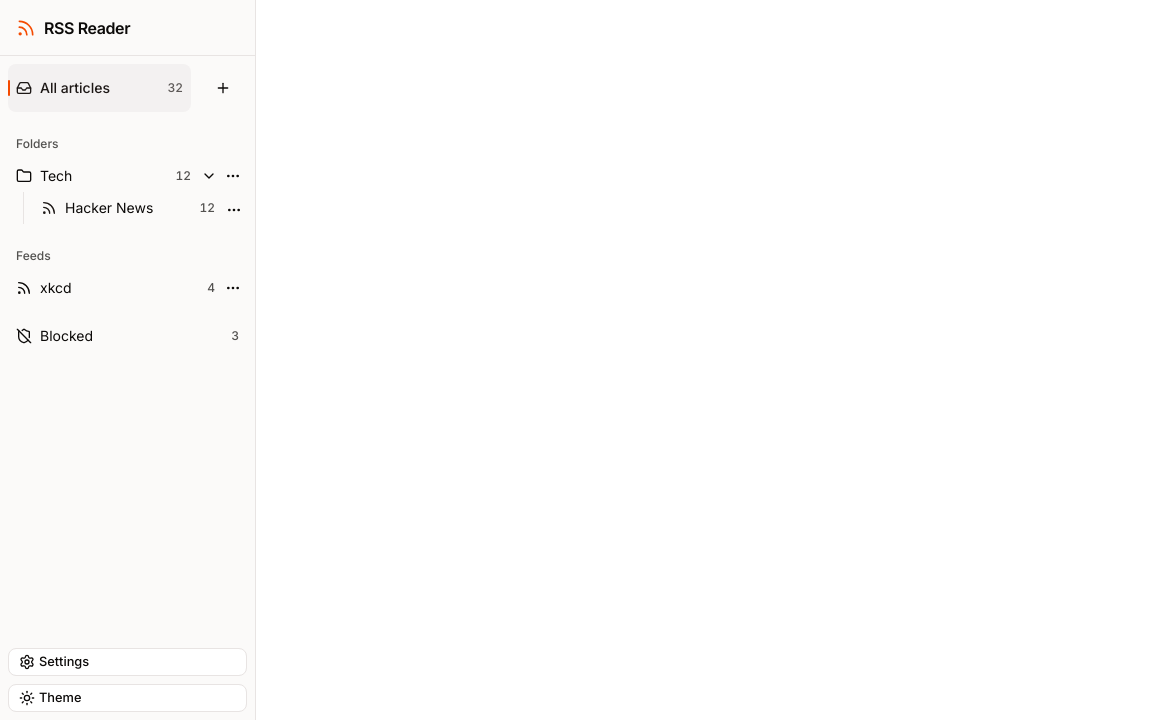
Test: AppSidebar › adds a feed via the header menu, sending the aggregator flag
Expected: the text "xkcd" is shown, [40, 278, 72, 298]
Note: Header "+" menu → Add feed.
Click the button named "Add feed or folder" at point(223, 88), box [199, 64, 247, 112]
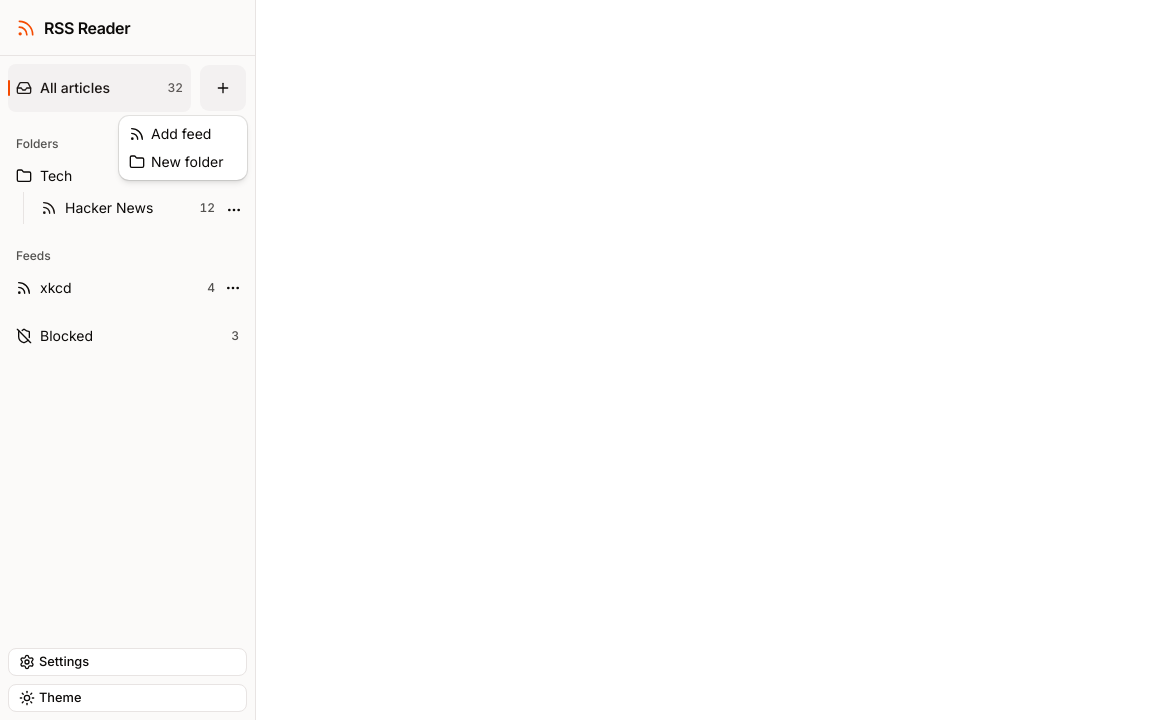
Click the menu item "Add feed" at point(170, 134), box [129, 125, 211, 142]
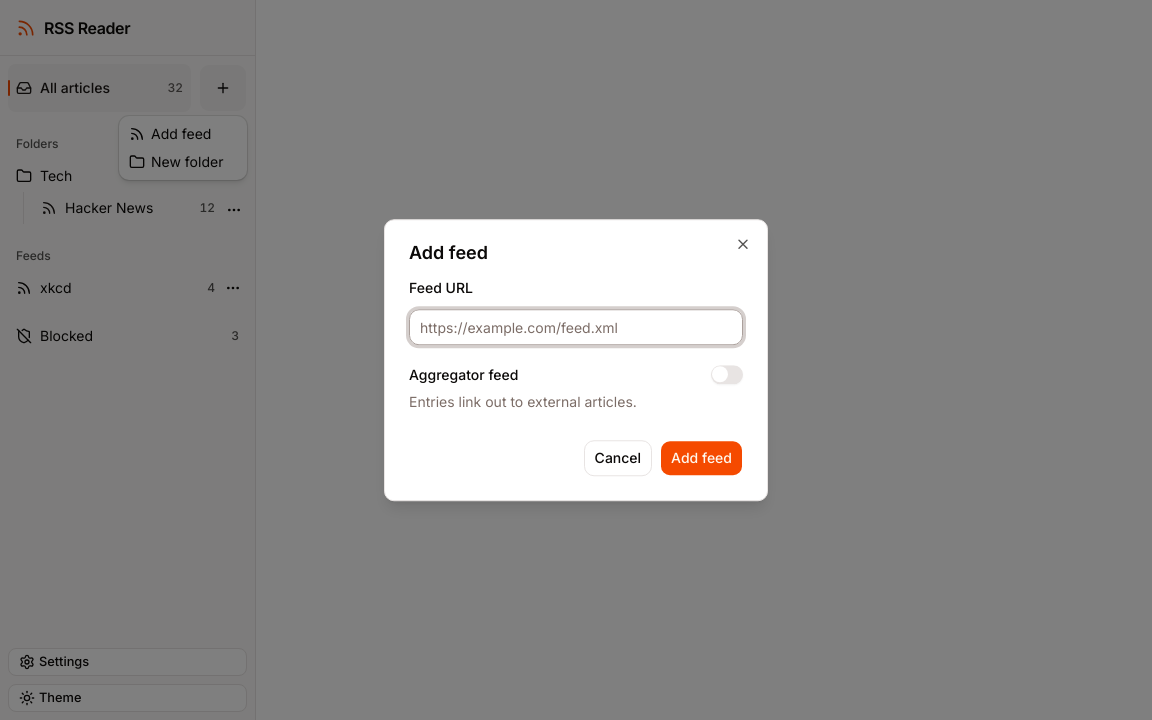
Note: Fill the form in the (desktop) dialog and submit.
Type "https://new.example/feed.xml" into the field labelled "Feed URL" at point(576, 328), box [409, 310, 743, 346]
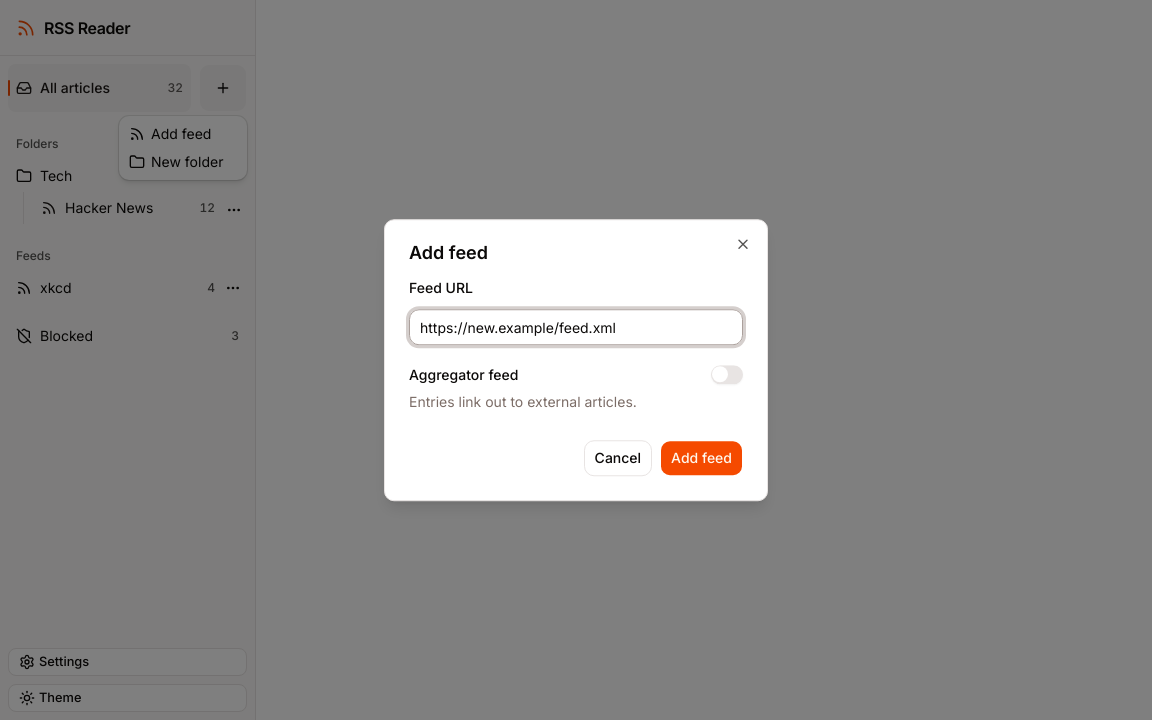
Click the switch named "Aggregator feed" at point(727, 375), box [711, 366, 743, 384]
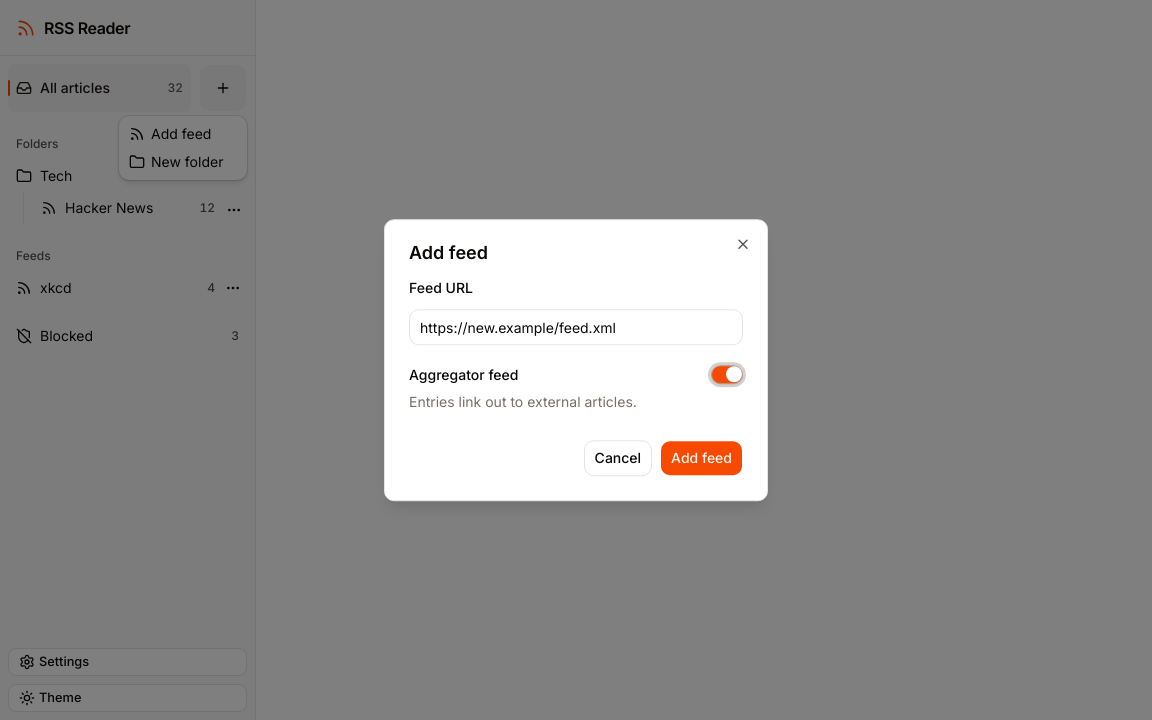
Click the button "Add feed" at point(702, 458), box [660, 440, 743, 476]
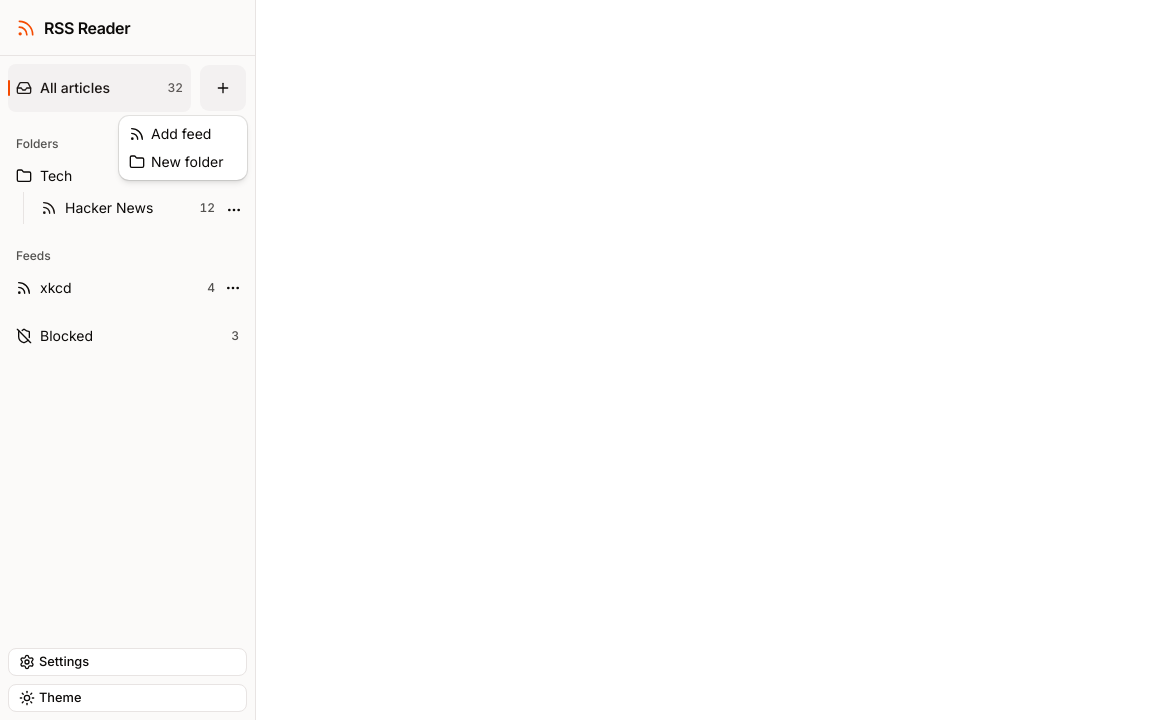
Result: the dialog is gone
